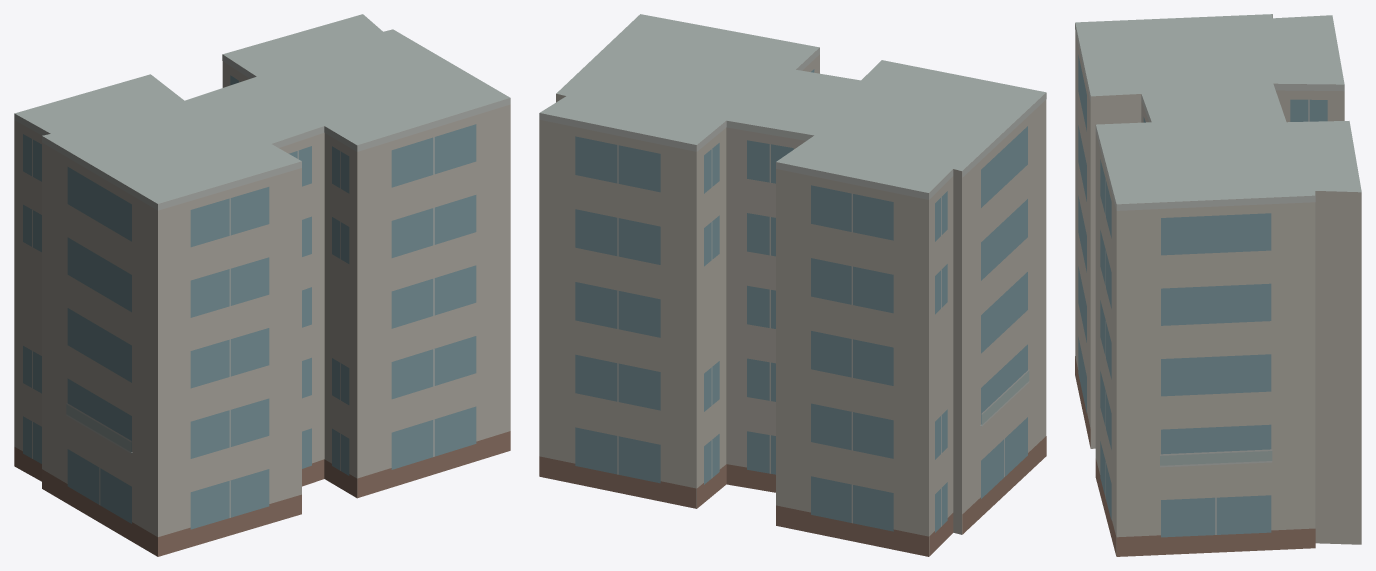
Rendered from survey-upis-32905820.glb.
3 renders of one model, left to right at view 1: azimuth 30°, elevation 25°; view 2: azimuth 150°, elevation 25°; view 3: azimuth 270°, elevation 25°, orthographic. The views are drawn at different scales.
Visible parts, largest first — view 1: survey-upis-32905820.tmp; view 2: survey-upis-32905820.tmp; view 3: survey-upis-32905820.tmp.
Part boxes in pixels (x1=…): survey-upis-32905820.tmp: x1=14, y1=14, x2=510, y2=556; survey-upis-32905820.tmp: x1=539, y1=14, x2=1046, y2=556; survey-upis-32905820.tmp: x1=1075, y1=14, x2=1361, y2=556.
Size of the model in its own units: 15.06 by 13 by 9.59.
